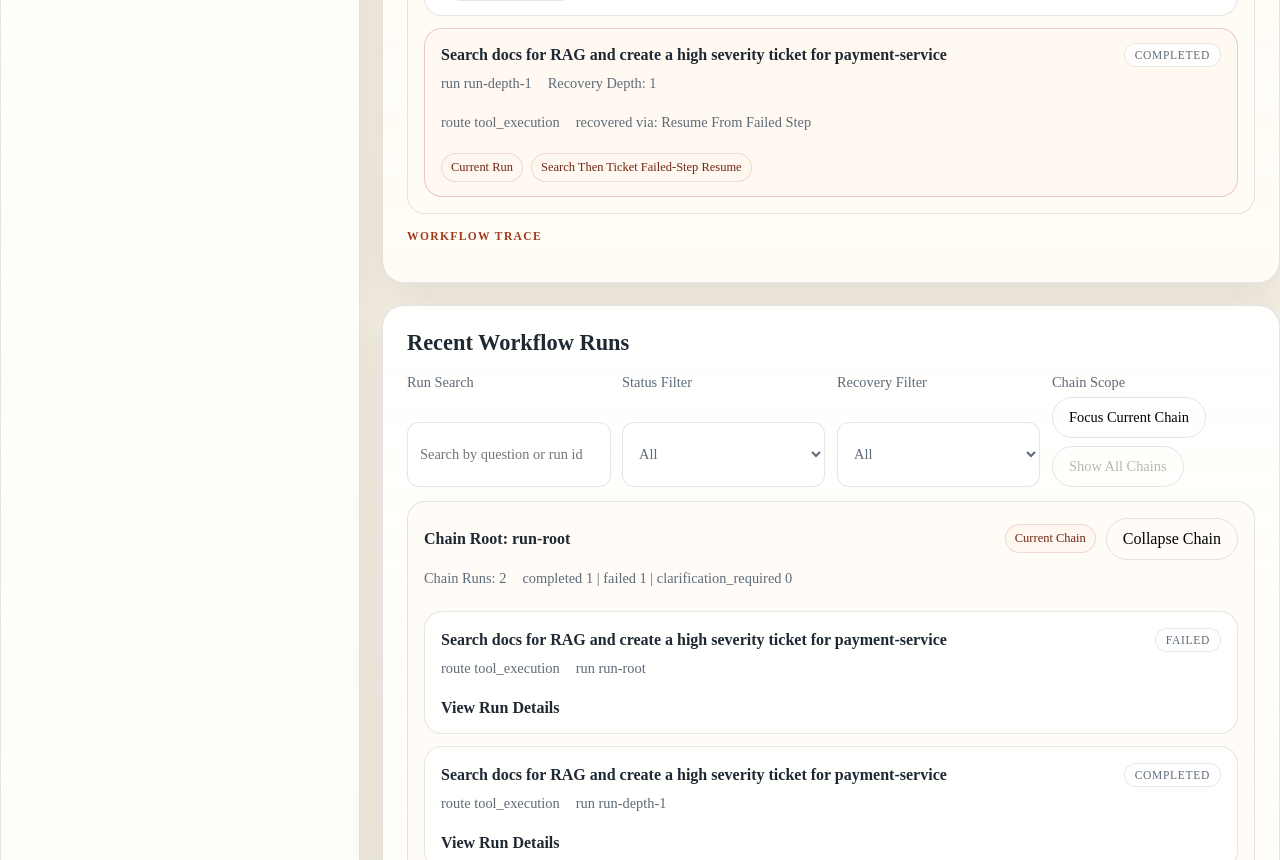
Test case: QueryView › focuses recent workflow runs on the current recovery chain
(page scrolled)
What coordinates should you click on to do the following:
click the button "Focus Current Chain"
I would click on:
 (1129, 417)
Its box is left=1052, top=396, right=1206, bottom=438.
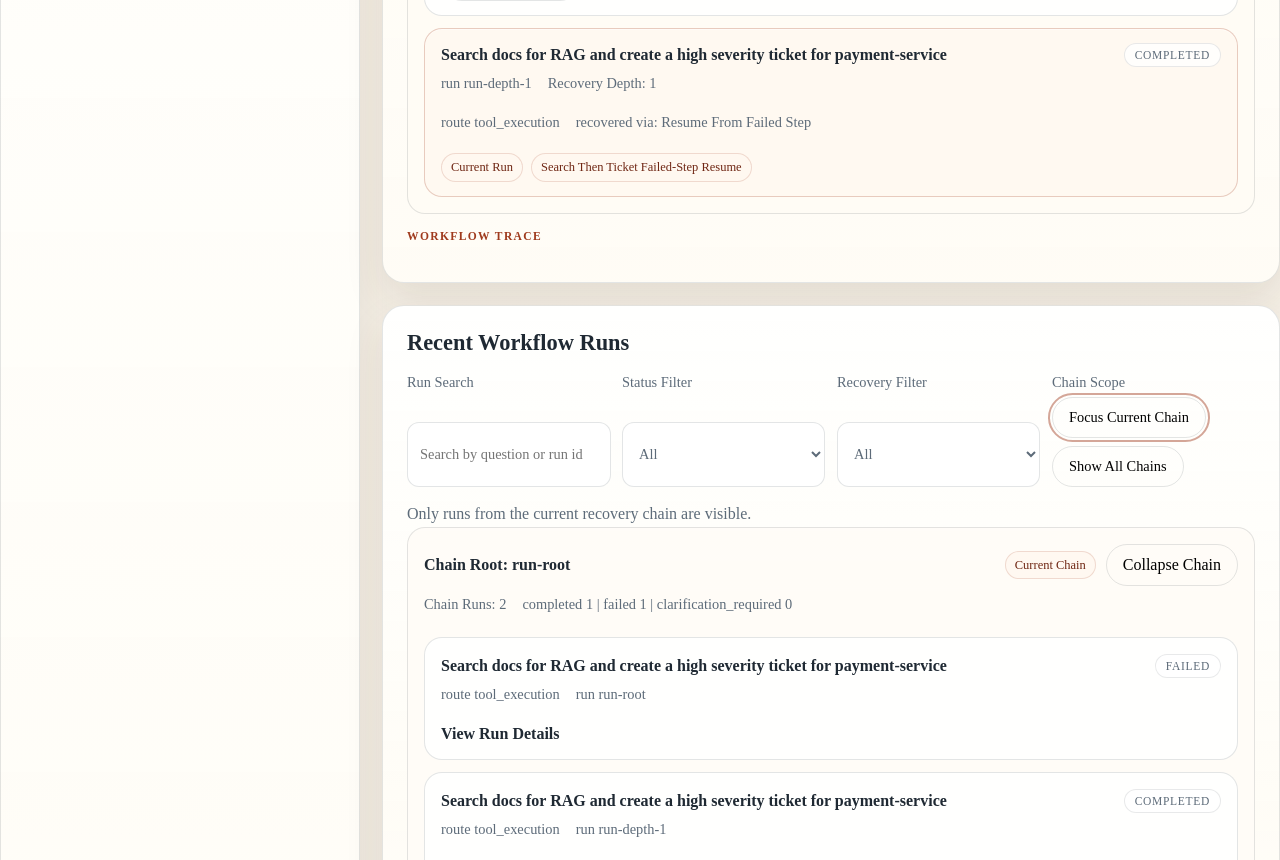
Now the text "Only runs from the current recovery chain are visible." is shown, box left=407, top=504, right=751, bottom=522
Now the text "Create a ticket for the payment service outage" is not shown
What coordinates should you click on to do the following:
click the button "Show All Chains"
I would click on:
 (1118, 466)
Its box is left=1052, top=446, right=1184, bottom=486.
(page scrolled)
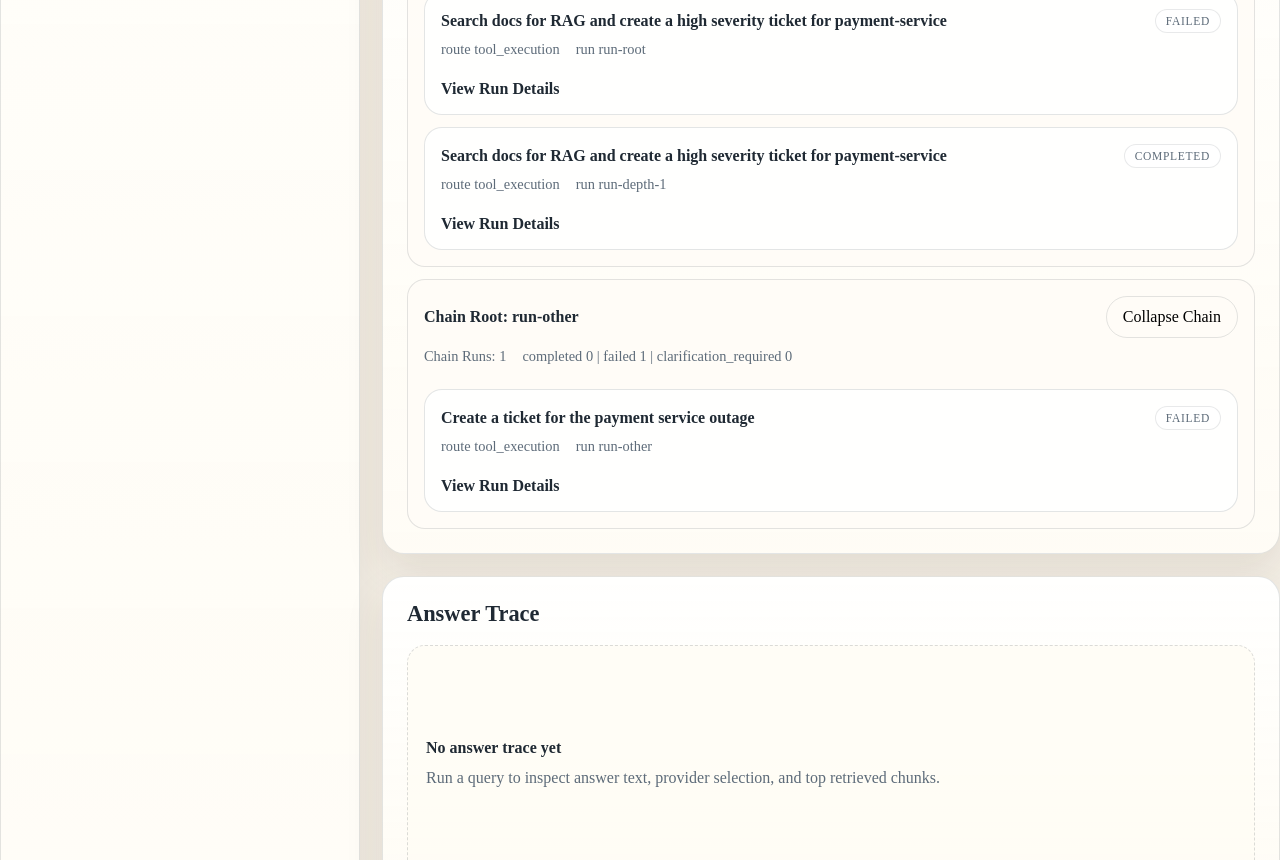
Now the text "Create a ticket for the payment service outage" is shown, box left=441, top=408, right=754, bottom=426
